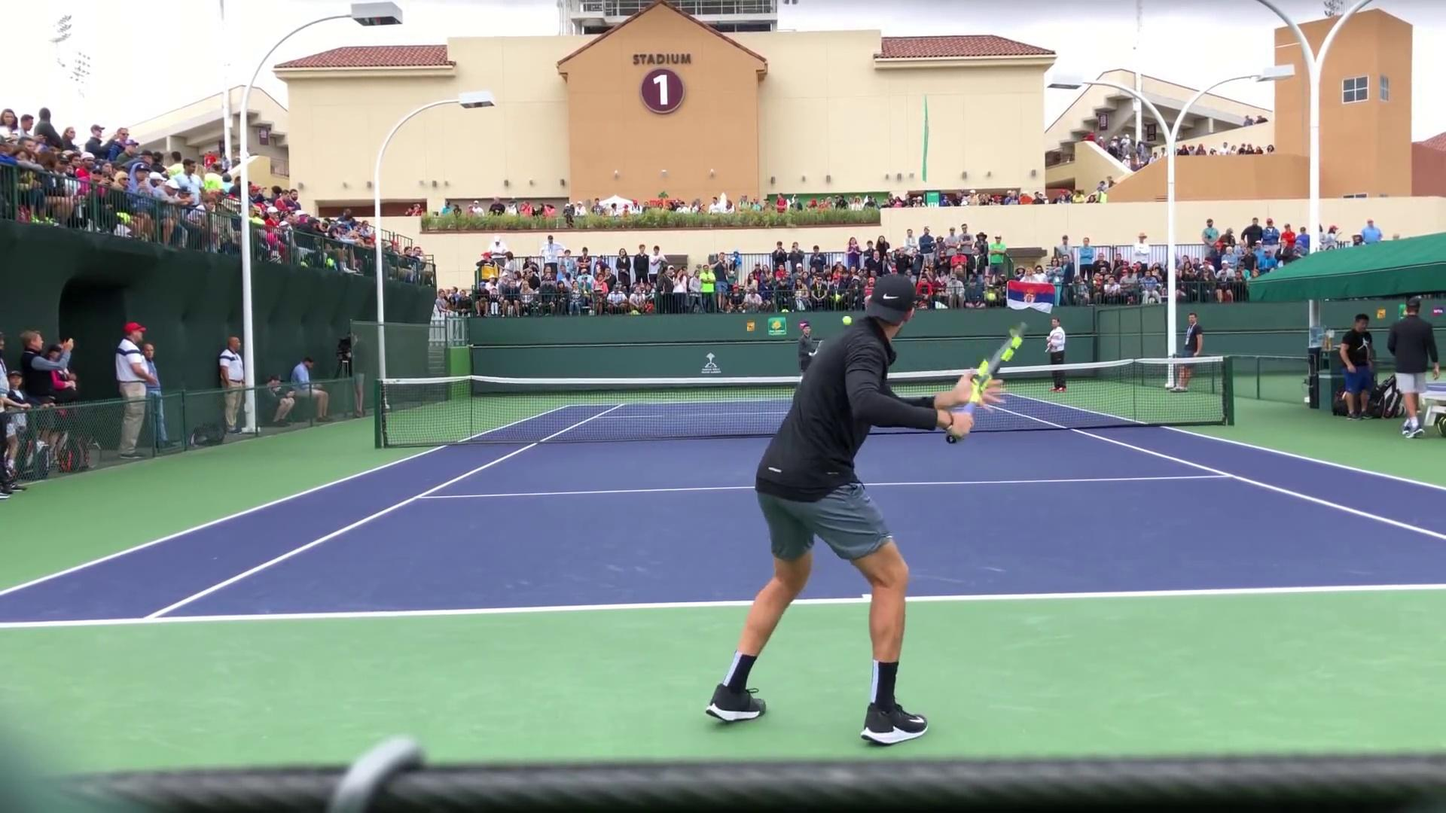ball: (842, 316, 852, 326)
